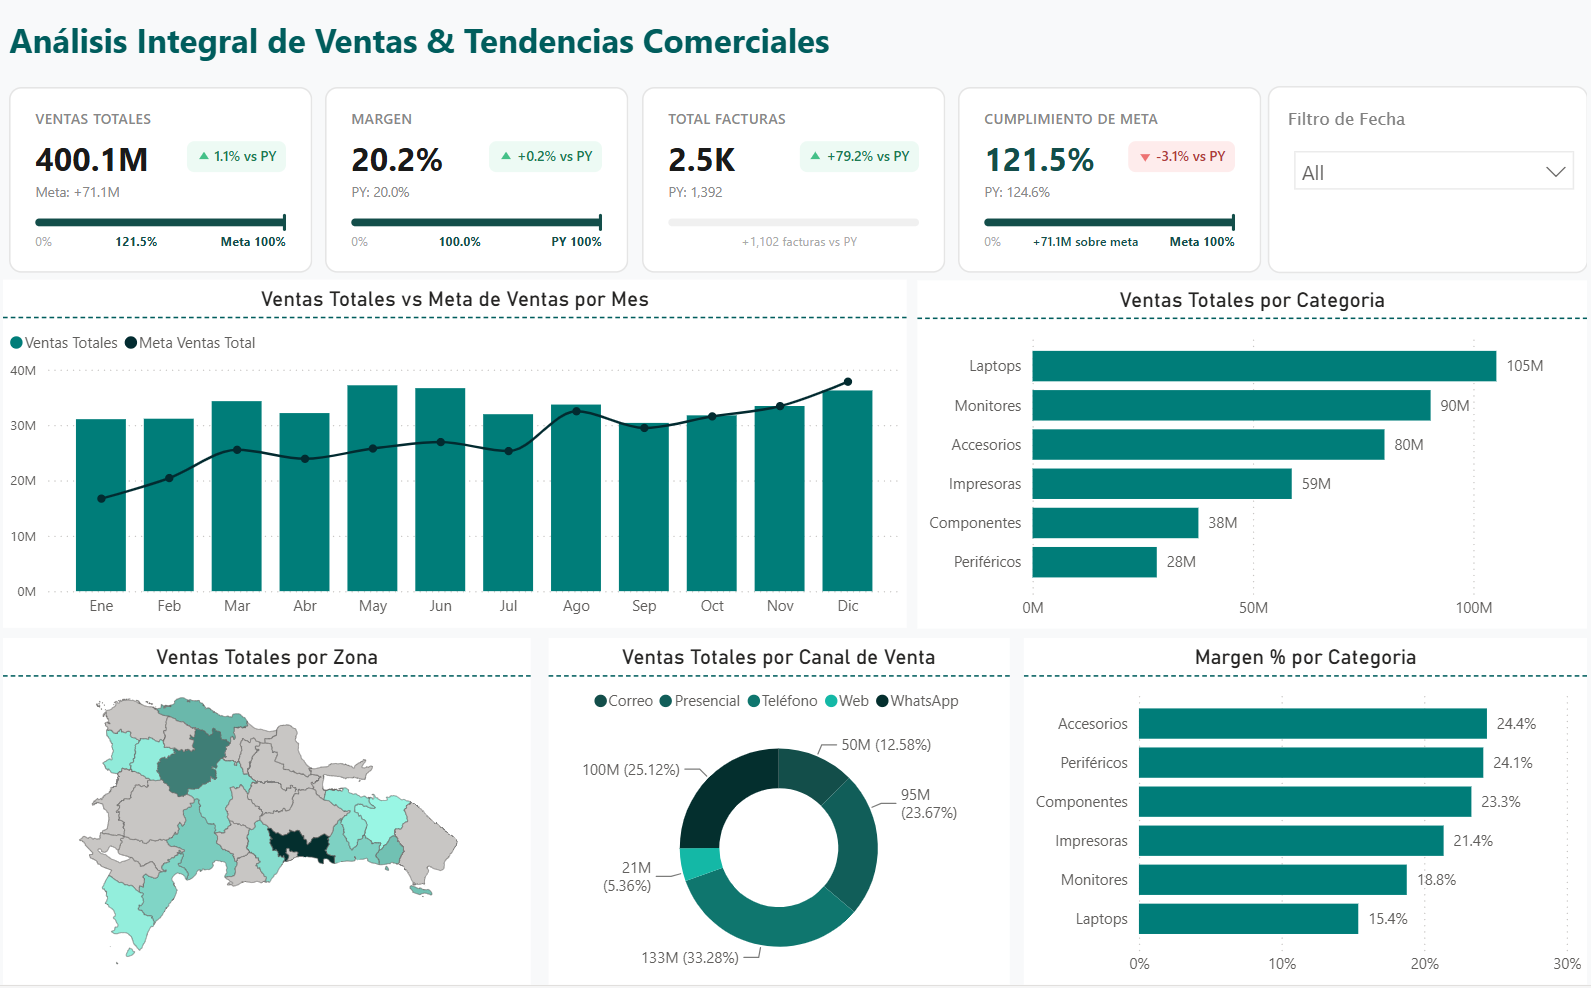

Layout of this report page (visuals, bound fields, positions):
{"tool":"powerbi","page":{"name":"Ventas","canvas":[1280,800],"ordinal":0},"visuals":[{"type":"htmlContent443BE3AD55E043BF878BED274D3A6855","fields":{"content":["_Medidas.KPI Margen HTML"]},"box":[255.5,69.7,255.5,161.5],"z":0},{"type":"htmlContent443BE3AD55E043BF878BED274D3A6855","fields":{"content":["_Medidas.KPI Facturas HTML"]},"box":[511.1,69.7,255.5,161.5],"z":1000},{"type":"htmlContent443BE3AD55E043BF878BED274D3A6855","fields":{"content":["_Medidas.KPI Cumplimiento HTML"]},"box":[766.6,69.7,255.5,161.5],"z":2000},{"type":"lineStackedColumnComboChart","title":"Ventas Totales vs Meta de Ventas por Mes","fields":{"Category":["DIM_FECHAS.MesCorto"],"Y":["_Medidas.Ventas Totales"],"Y2":["_Medidas.Meta Ventas Total"]},"box":[0,230.9,730,280.9],"z":3000},{"type":"clusteredBarChart","title":"Ventas Totales por Categoria","fields":{"Category":["DIM_PRODUCTOS.Categoria"],"Y":["_Medidas.Ventas Totales"]},"box":[738.7,231.1,541.3,281.1],"z":4000},{"type":"donutChart","title":"Ventas Totales por Canal de Venta","fields":{"Category":["FACT_VENTAS.CanalVenta"],"Y":["_Medidas.Ventas Totales"]},"box":[440.4,520.1,371.9,280.2],"z":6000},{"type":"slicer","title":"Filtro de Fecha","fields":{"Values":["DIM_FECHAS.Fecha.Variation.Date Hierarchy.Year","DIM_FECHAS.Fecha.Variation.Date Hierarchy.Month"]},"box":[1021.8,74.5,258.2,150.9],"z":7000},{"type":"textbox","box":[0,13.8,707.5,47.5],"z":8000},{"type":"clusteredBarChart","title":"Margen % por Categoria","fields":{"Category":["DIM_PRODUCTOS.Categoria"],"Y":["_Medidas.Margen %"]},"box":[824.4,520.1,455.6,280.2],"z":9000},{"type":"htmlContent443BE3AD55E043BF878BED274D3A6855","fields":{"content":["_Medidas.KPI Ventas HTML"]},"box":[0,69.7,255.5,161.5],"z":10000},{"type":"shapeMap","title":"Ventas Totales por Zona","fields":{"Category":["DIM_CLIENTES.Ciudad"],"Value":["_Medidas.Ventas Totales"]},"box":[0,520,426.7,280],"z":11000}]}

Visuals, with their boxes in screenshot pixels (x1, y1, x2, y2), scaled from the page's 1280x800 canvas onto the 1591x988 screenshot:
htmlContent443BE3AD55E043BF878BED274D3A6855 - _Medidas.KPI Margen HTML: [x1=318, y1=86, x2=635, y2=286]
htmlContent443BE3AD55E043BF878BED274D3A6855 - _Medidas.KPI Facturas HTML: [x1=635, y1=86, x2=953, y2=286]
htmlContent443BE3AD55E043BF878BED274D3A6855 - _Medidas.KPI Cumplimiento HTML: [x1=953, y1=86, x2=1270, y2=286]
"Ventas Totales vs Meta de Ventas por Mes" lineStackedColumnComboChart: [x1=0, y1=285, x2=907, y2=632]
"Ventas Totales por Categoria" clusteredBarChart: [x1=918, y1=285, x2=1590, y2=633]
"Ventas Totales por Canal de Venta" donutChart: [x1=547, y1=642, x2=1010, y2=987]
"Filtro de Fecha" slicer: [x1=1270, y1=92, x2=1590, y2=278]
textbox: [x1=0, y1=17, x2=879, y2=76]
"Margen % por Categoria" clusteredBarChart: [x1=1025, y1=642, x2=1590, y2=987]
htmlContent443BE3AD55E043BF878BED274D3A6855 - _Medidas.KPI Ventas HTML: [x1=0, y1=86, x2=318, y2=286]
"Ventas Totales por Zona" shapeMap: [x1=0, y1=642, x2=530, y2=987]
